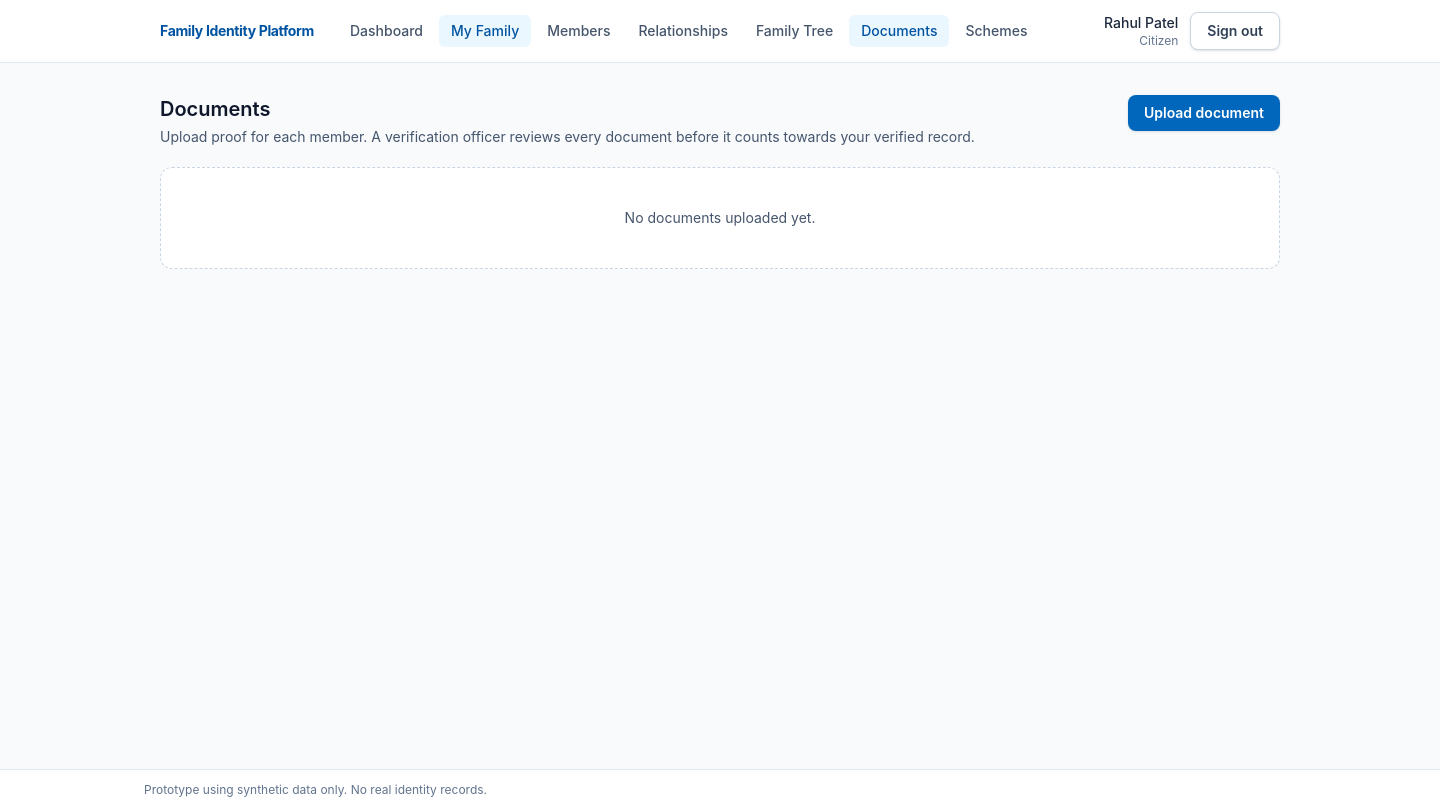
Test: FamilyDocumentsPage — uploading › refuses to submit without a file
expect the text "No documents uploaded yet." is shown: met, box [160,167,1280,269]
Click the button "Upload document" at (1204, 113), box [1128,95,1280,131]
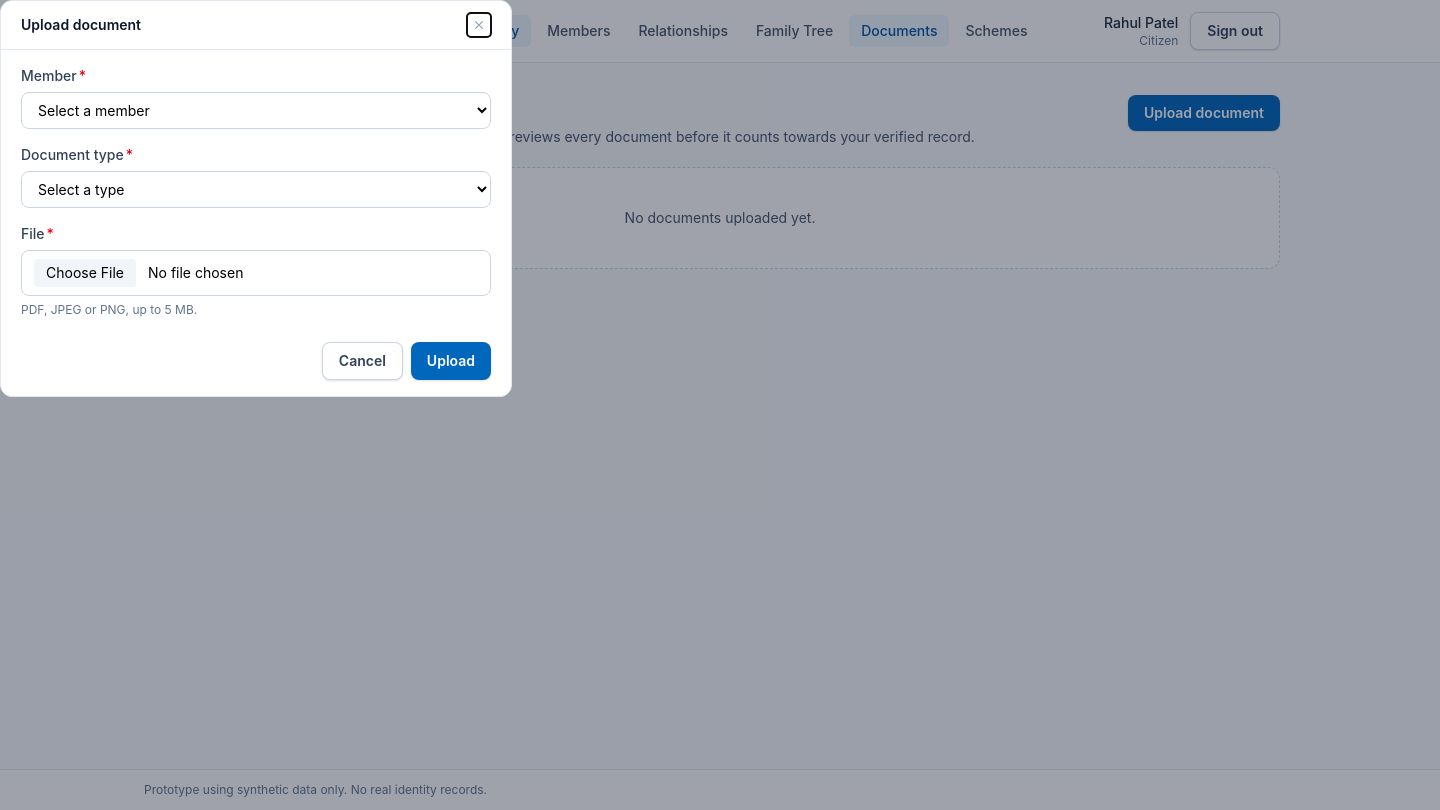
Select "Riya Patel" in the dropdown labelled "Member*" at (256, 110), box [21,92,491,129]
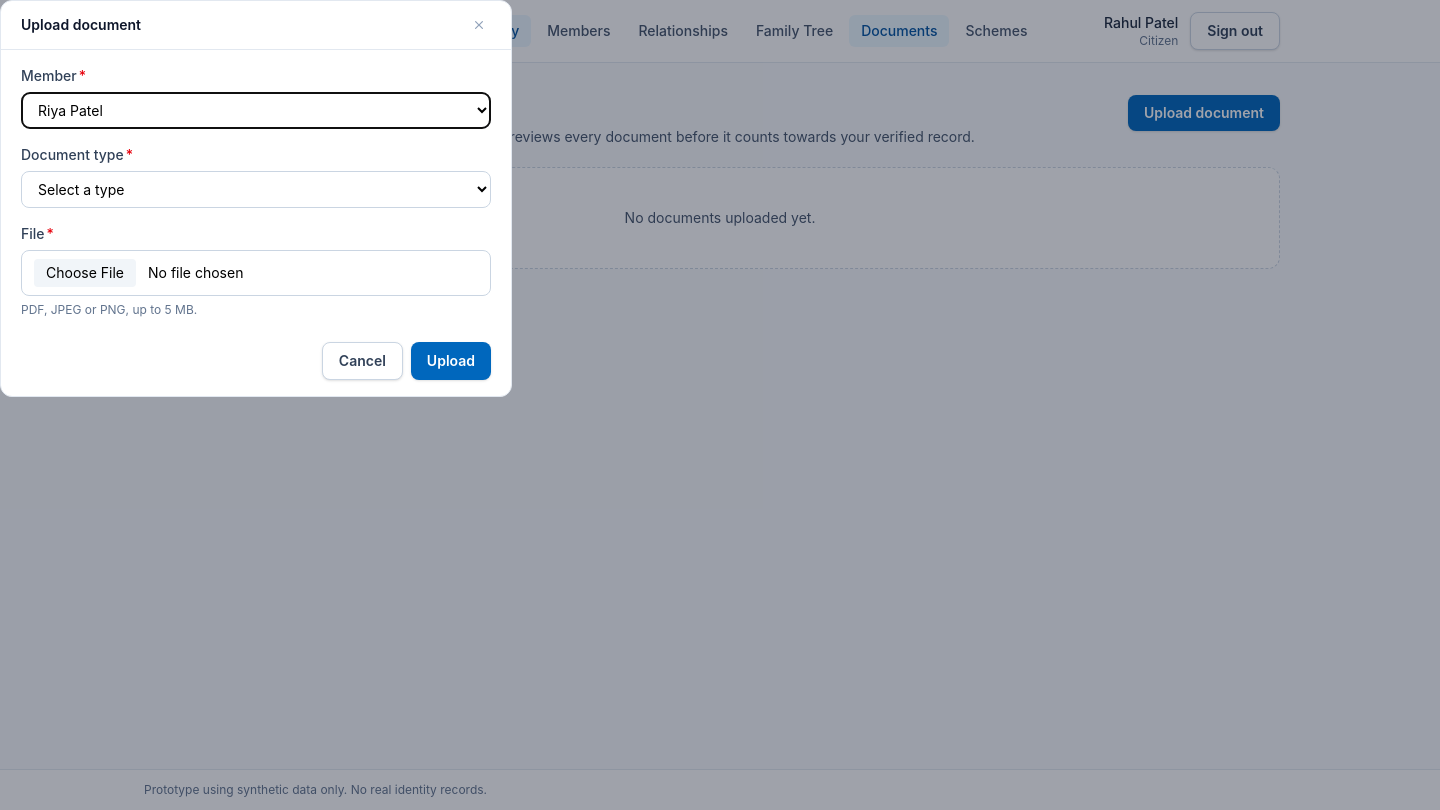
Select "Birth Certificate" in the dropdown labelled "Document type*" at (256, 190), box [21,171,491,208]
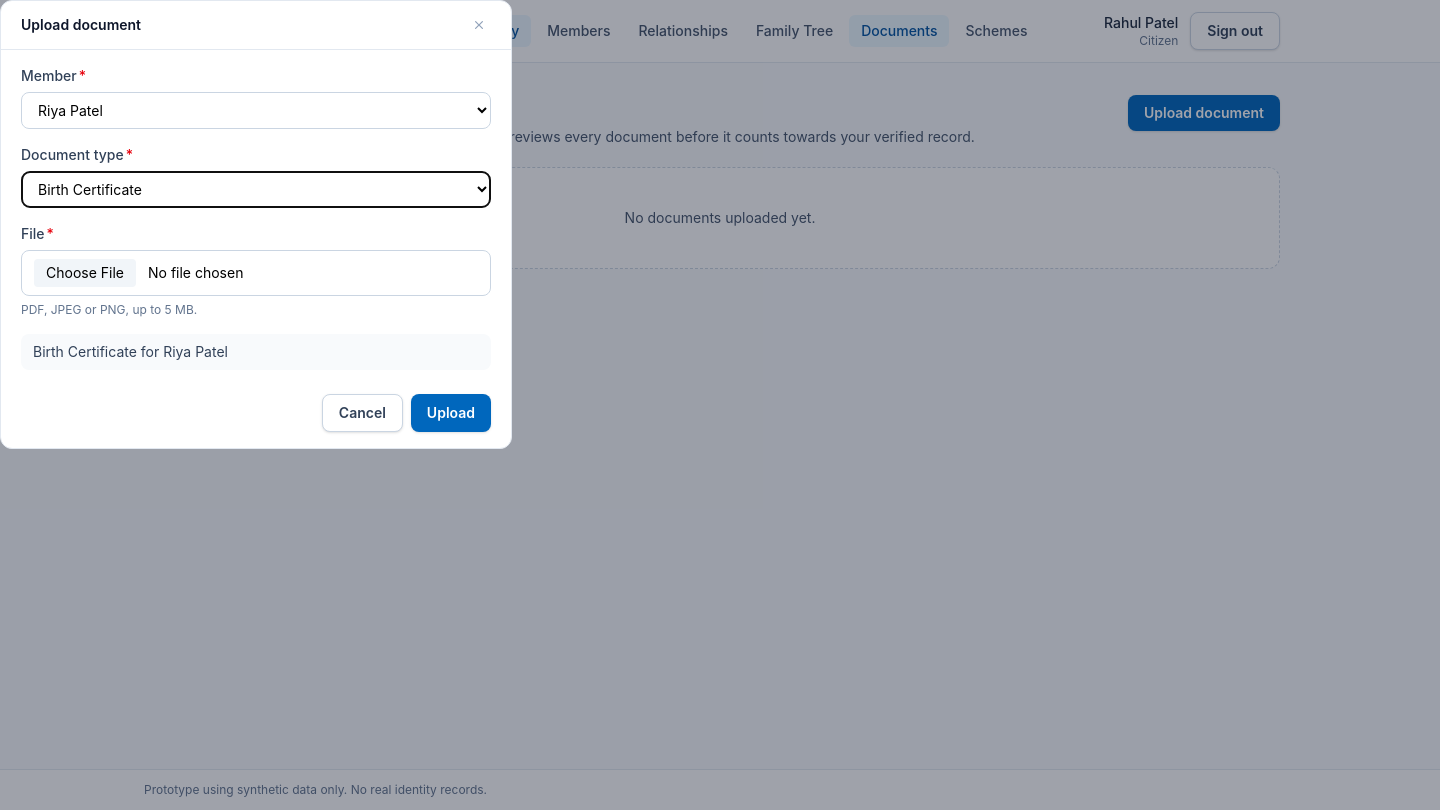
Click the button "Upload" at (451, 413), box [411,394,491,432]
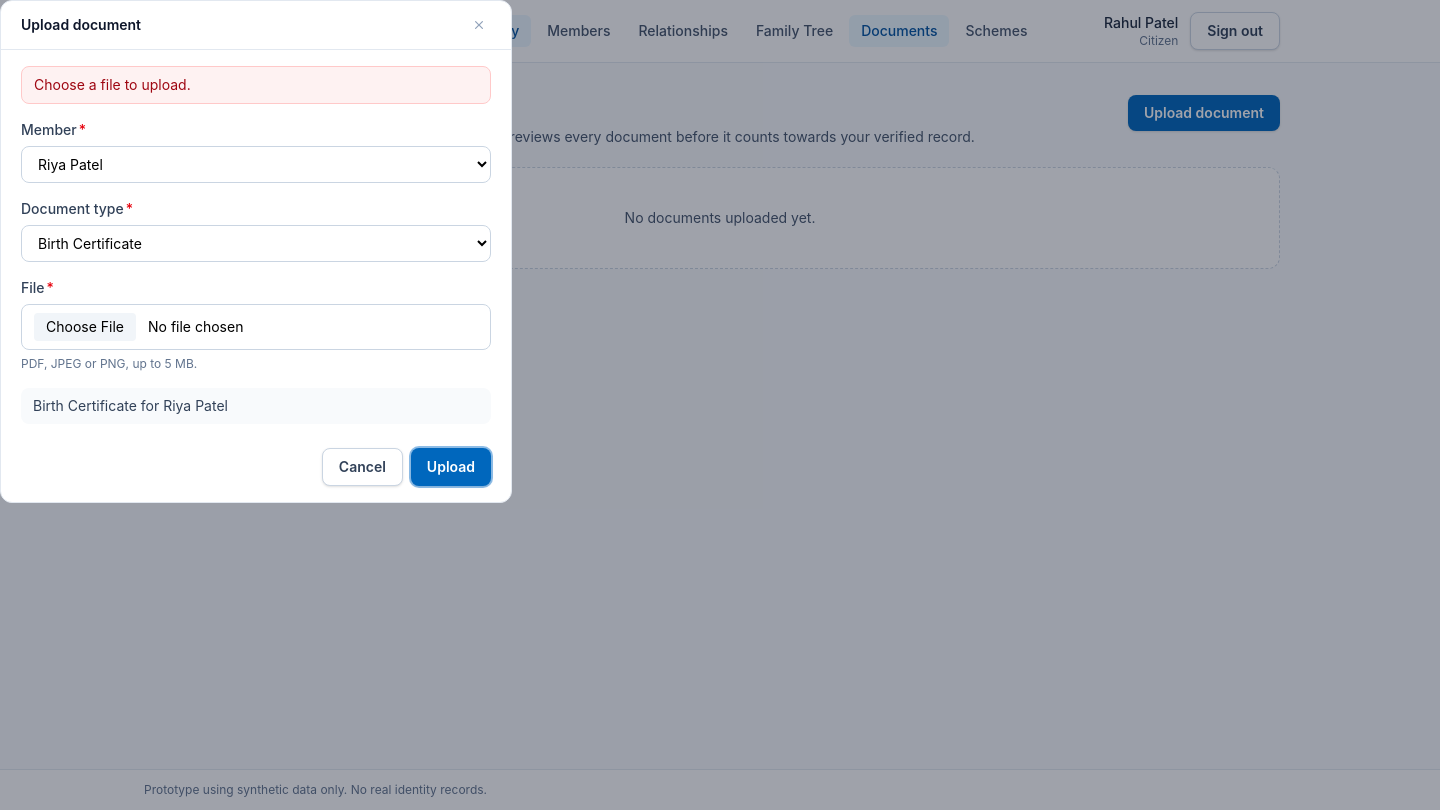
expect the text "Choose a file to upload." is shown: met, box [34,76,191,93]
